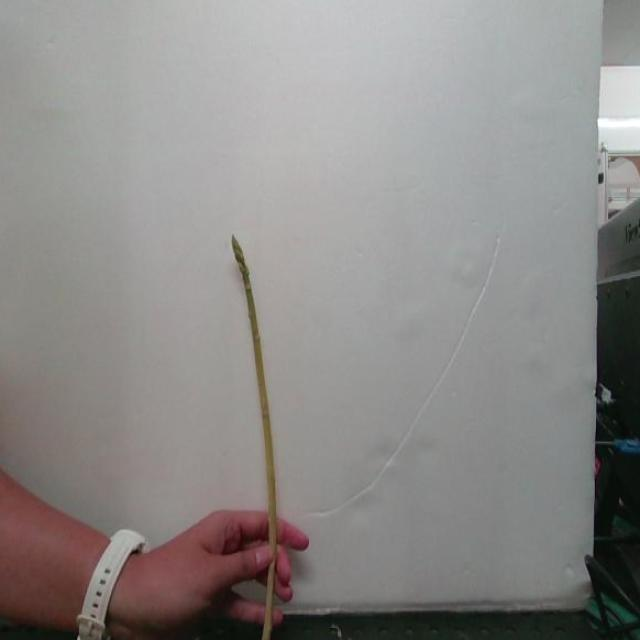aspargus: (232, 237, 291, 601)
